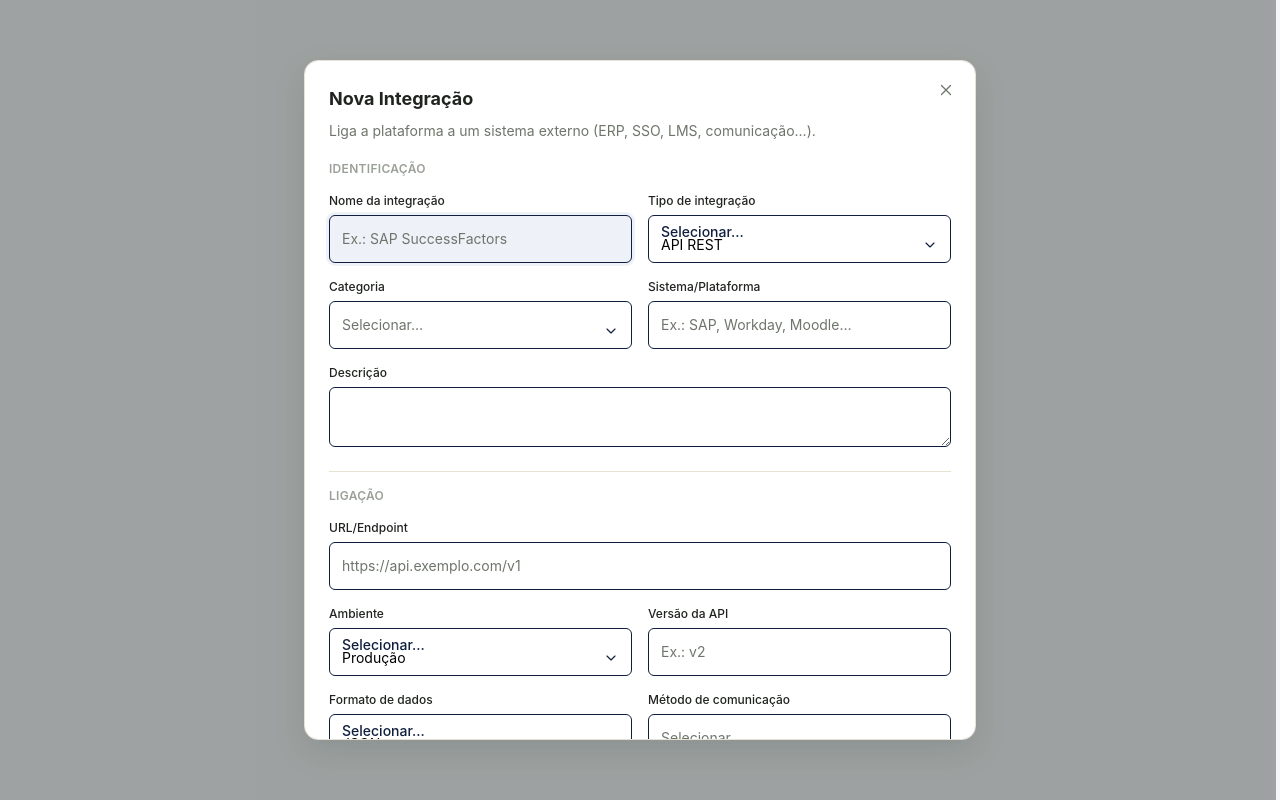
Test: NewIntegrationModal (scalability) › o botão de criar só fica activo com os campos obrigatórios
This screenshot has width=1280, height=800.
Type "SAP" into the field labelled "Nome da integração" at (480, 239), box [329,215,632,263]
(page scrolled)
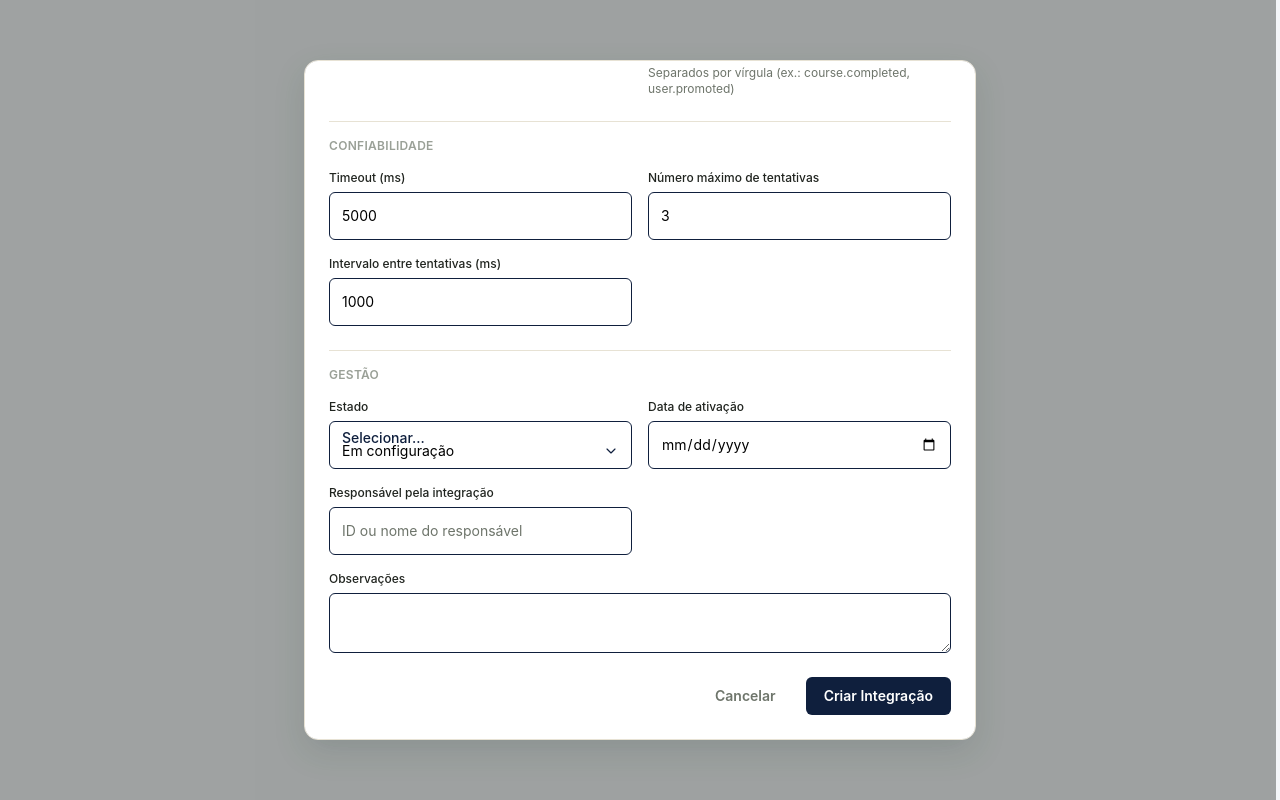
Expected: the button "Criar Integração" is enabled, [806,677,951,715]
